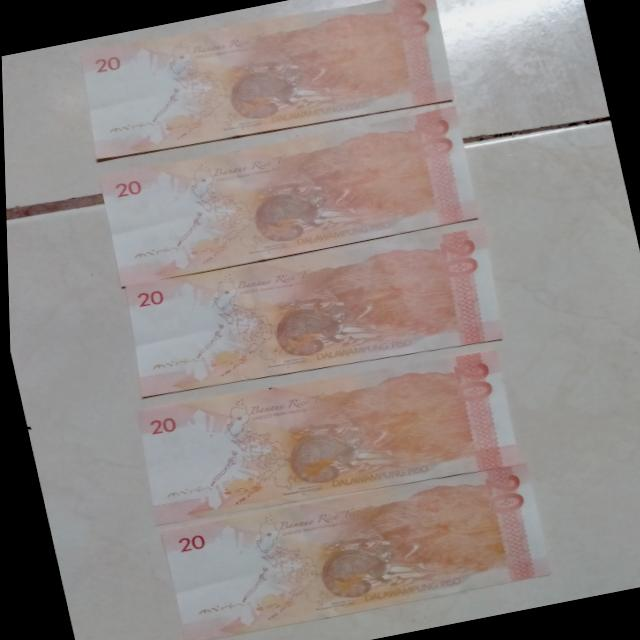20_civet: (260, 295, 355, 367)
20_civet_watermark: (192, 336, 270, 386), (212, 464, 278, 508)
